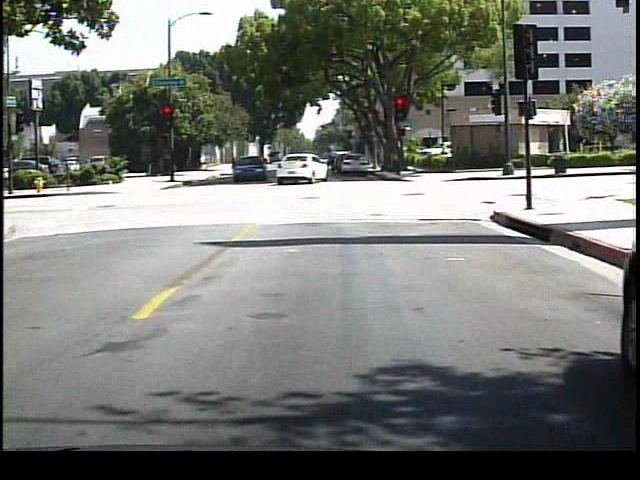person: (320, 145, 338, 182)
